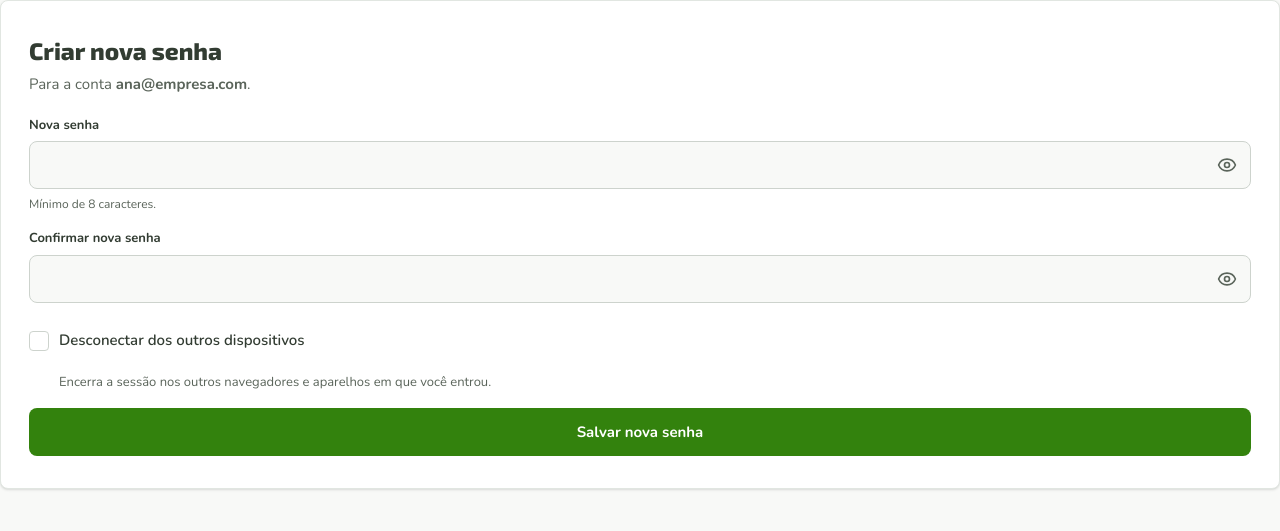
Test: ResetPasswordForm › blocks a confirmation that differs
The width and height of the screenshot is (1280, 531).
Type "new-secret-1" into the password field labelled "Nova senha".
click(640, 165); type("new-secret-1")  # box 29,141 -> 1251,189
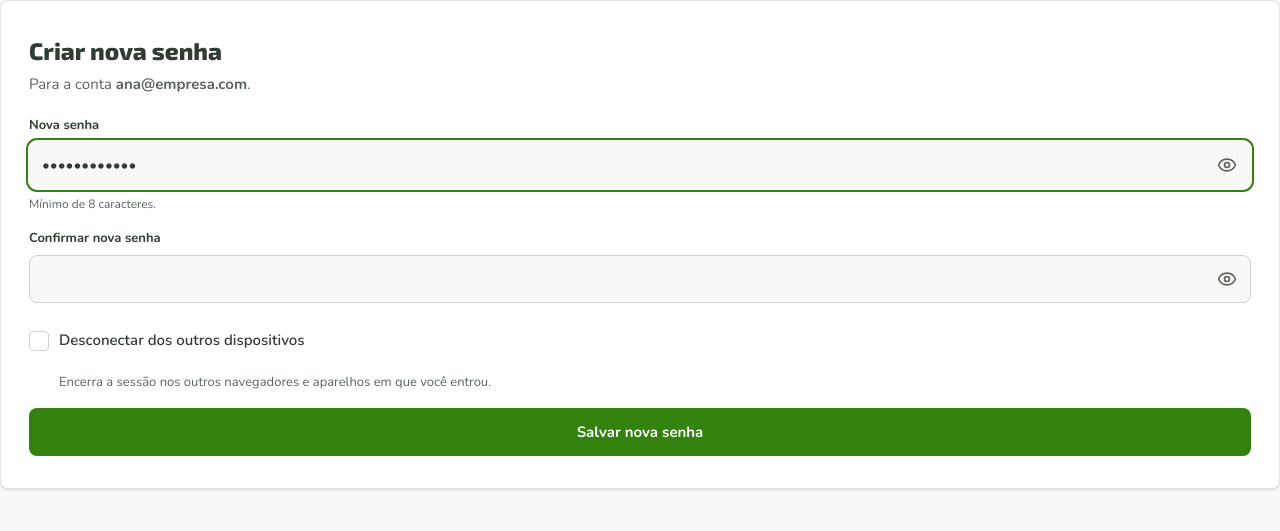
Type "new-secret-2" into the password field labelled "Confirmar nova senha".
click(640, 278); type("new-secret-2")  # box 29,254 -> 1251,302
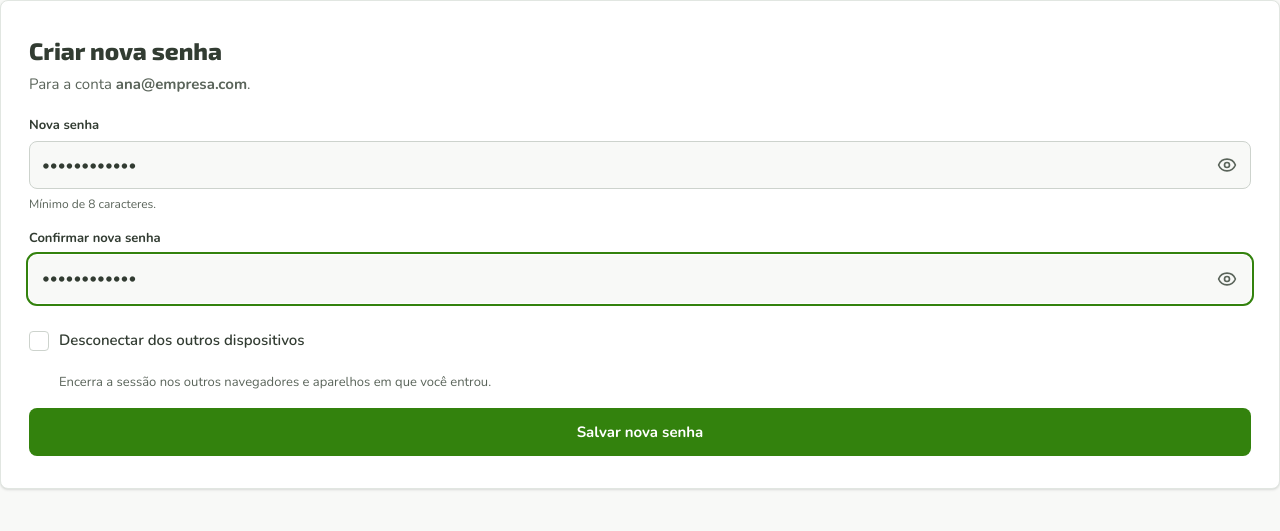
Click the button "Salvar nova senha".
click(640, 432)  # box 29,408 -> 1251,456
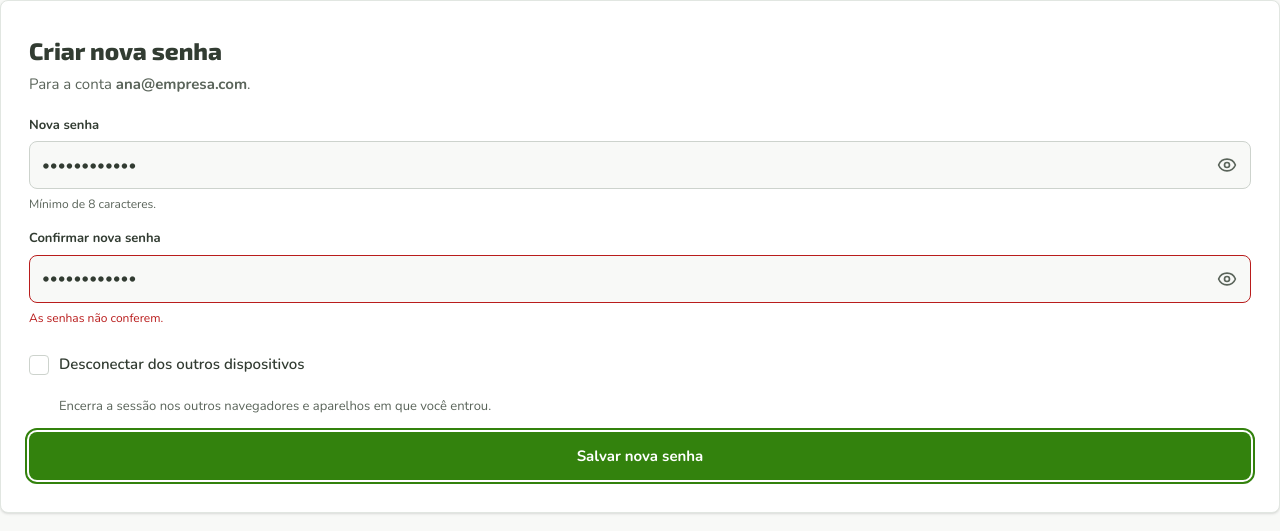
Expected: the text "As senhas não conferem." is shown, 29,310 -> 163,326
